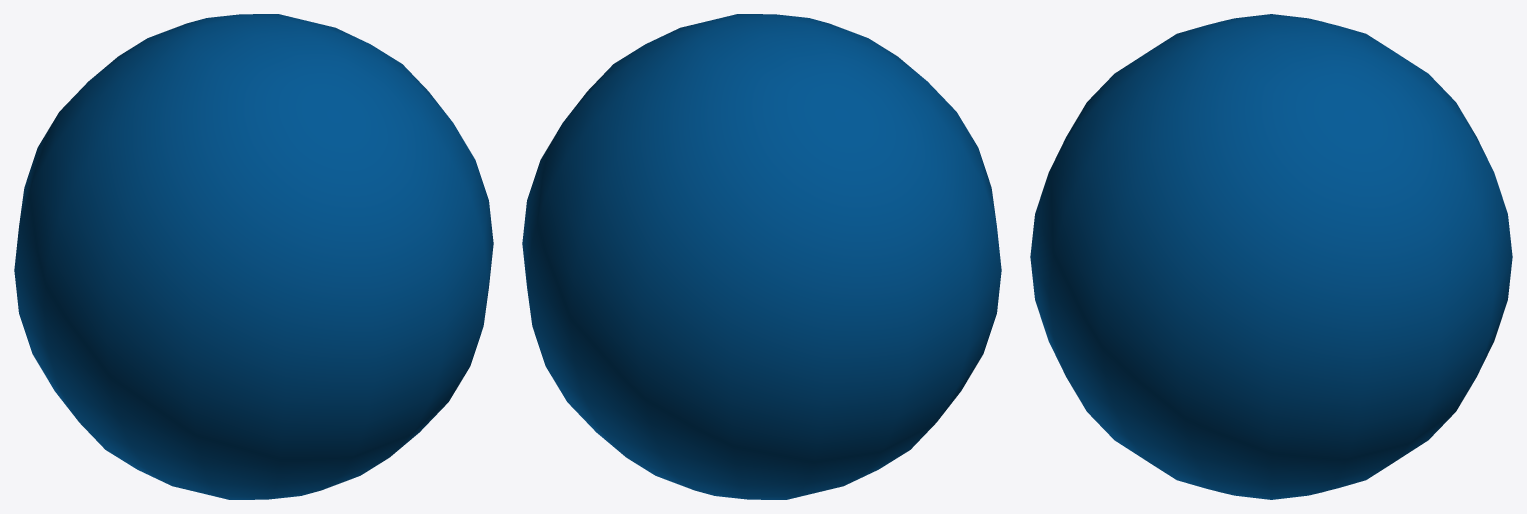
Rendered from Metal_Ball.fbx.
3 views of the same model, side by side, from view 1: azimuth 30°, elevation 25°; view 2: azimuth 150°, elevation 25°; view 3: azimuth 270°, elevation 25° (orthographic).
Parts seen in each view (by area): view 1: Metal_Ball; view 2: Metal_Ball; view 3: Metal_Ball.
Part boxes in pixels (bbox=[...]): Metal_Ball: bbox=[14, 14, 493, 499]; Metal_Ball: bbox=[522, 14, 1001, 499]; Metal_Ball: bbox=[1030, 14, 1512, 499].
Size of the model in its own units: 86.19 by 87.19 by 86.19.
